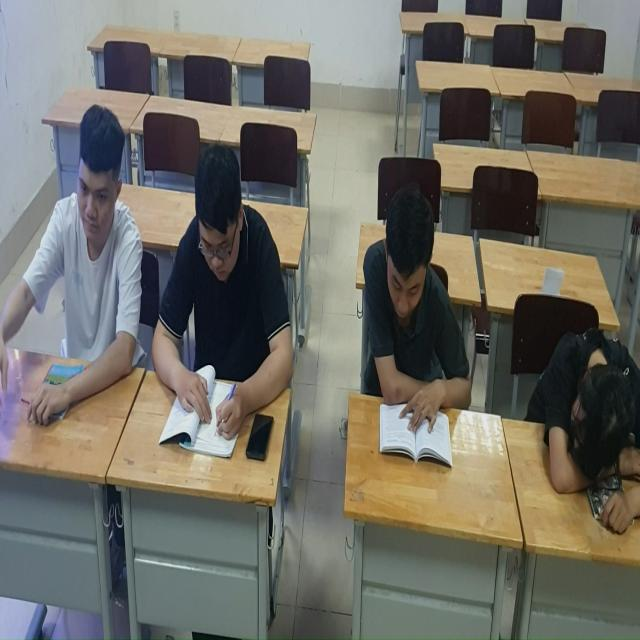read: (151, 140, 297, 467), (1, 110, 142, 436), (359, 182, 472, 470)
sleep: (528, 314, 640, 543)
